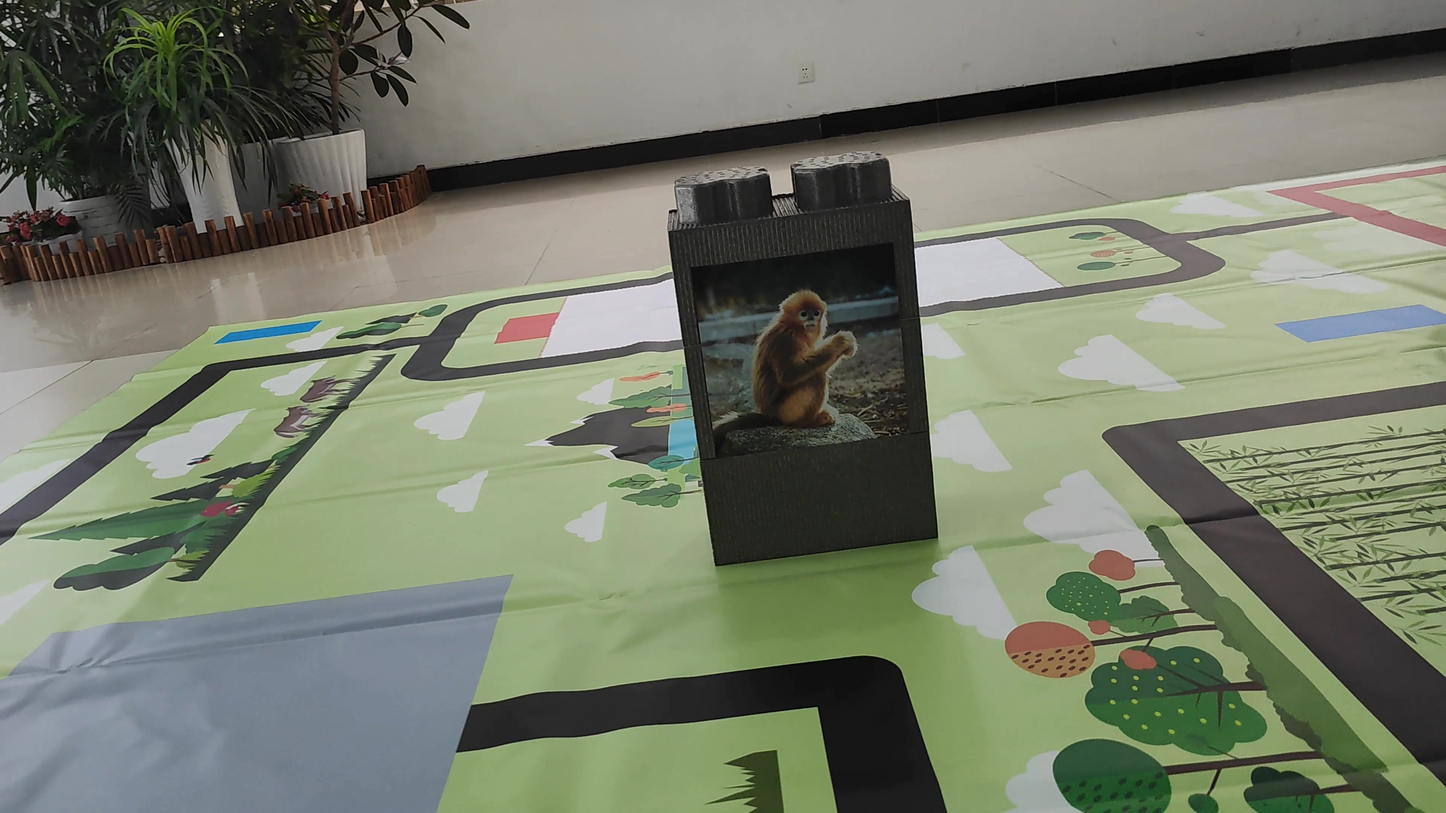monkey: (698, 244, 907, 445)
